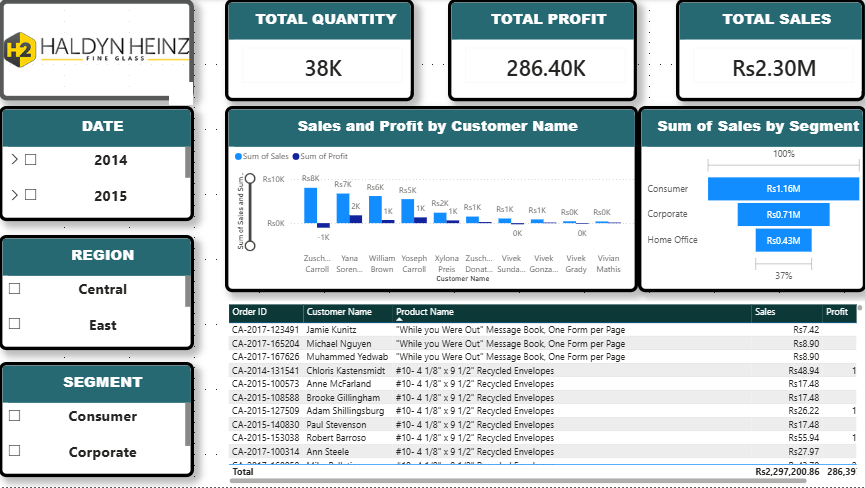

This screenshot's page, from the dashboard's own definition file:
{"tool":"powerbi","page":{"name":"Coumster Anaylsis","canvas":[1280,720],"ordinal":5},"visuals":[{"type":"image","box":[0,0,288,150],"z":0},{"type":"cardVisual","title":"TOTAL QUANTITY","fields":{"Data":["Sum(Orders.Quantity)"]},"box":[334.3,0,279.4,150.9],"z":1000},{"type":"cardVisual","title":"TOTAL PROFIT","fields":{"Data":["Sum(Orders.Profit)"]},"box":[663.4,0,279.4,150.9],"z":2000},{"type":"cardVisual","title":"TOTAL SALES","fields":{"Data":["Sum(Orders.Sales)"]},"box":[1000.6,0,279.4,150.9],"z":3000},{"type":"listSlicer","title":"DATE","fields":{"Values":["Orders.Order Date.Variation.Date Hierarchy.Year","Orders.Order Date.Variation.Date Hierarchy.Quarter","Orders.Order Date.Variation.Date Hierarchy.Month","Orders.Order Date.Variation.Date Hierarchy.Day"]},"box":[0,157.7,288,169.7],"z":4000},{"type":"listSlicer","title":"REGION","fields":{"Values":["Orders.Region"]},"box":[0,348,288,169.7],"z":5000},{"type":"listSlicer","title":"SEGMENT","fields":{"Values":["Orders.Segment"]},"box":[0,536.6,288,169.7],"z":6000},{"type":"clusteredColumnChart","title":"Sales and Profit by Customer Name","fields":{"Category":["Orders.Customer Name"],"Y":["Sum(Orders.Sales)","Sum(Orders.Profit)"]},"box":[333.5,158.3,609.7,274.5],"z":7000},{"type":"funnel","fields":{"Category":["Orders.Segment"],"Y":["Sum(Orders.Sales)"]},"box":[943.2,158.3,336.8,274.5],"z":8000},{"type":"tableEx","fields":{"Values":["Orders.Order ID","Orders.Customer Name","Orders.Product Name","Sum(Orders.Sales)","Sum(Orders.Profit)","Sum(Orders.Quantity)"]},"box":[333.5,446.3,946.5,274.5],"z":9000}]}

Visuals, with their boxes in screenshot pixels (x1, y1, x2, y2), scaled from the page's 1280x720 canvas onto the 865x488 screenshot:
image: 0 0 195 102
"TOTAL QUANTITY" cardVisual: 226 0 415 102
"TOTAL PROFIT" cardVisual: 448 0 637 102
"TOTAL SALES" cardVisual: 676 0 864 102
"DATE" listSlicer: 0 107 195 222
"REGION" listSlicer: 0 236 195 351
"SEGMENT" listSlicer: 0 364 195 479
"Sales and Profit by Customer Name" clusteredColumnChart: 225 107 637 293
funnel - Orders.Segment x Sum(Orders.Sales): 637 107 864 293
tableEx - Orders.Order ID x Orders.Customer Name: 225 302 864 487
